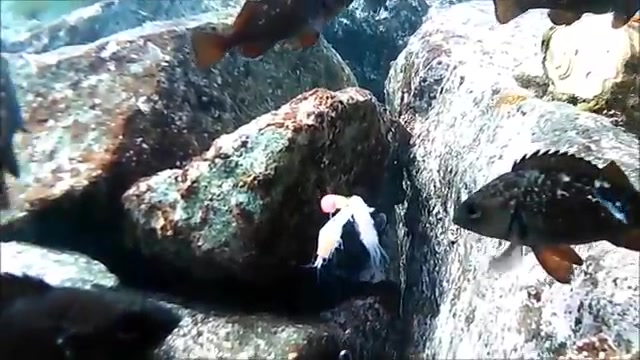mebaru: (442, 148, 640, 288), (188, 1, 366, 83), (494, 1, 640, 33)
